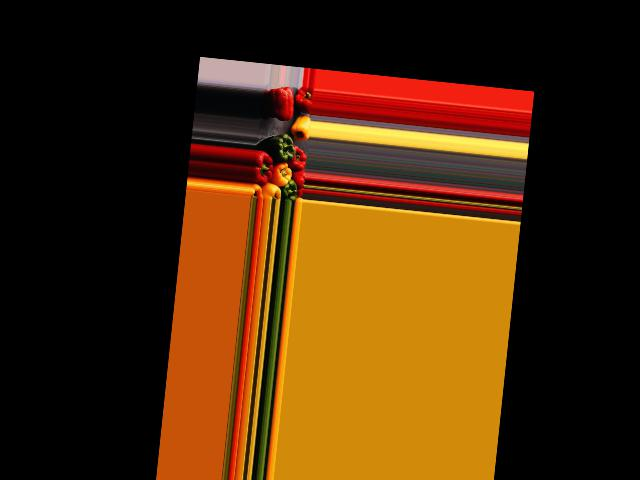bell_pepper: (294, 85, 312, 114)
